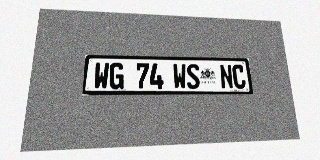4: (150, 63, 164, 89)
7: (135, 63, 149, 89)
C: (232, 65, 246, 89)
G: (109, 63, 124, 89)
N: (219, 64, 234, 89)
S: (186, 64, 200, 89)
W: (93, 62, 109, 89), (173, 64, 187, 89)
